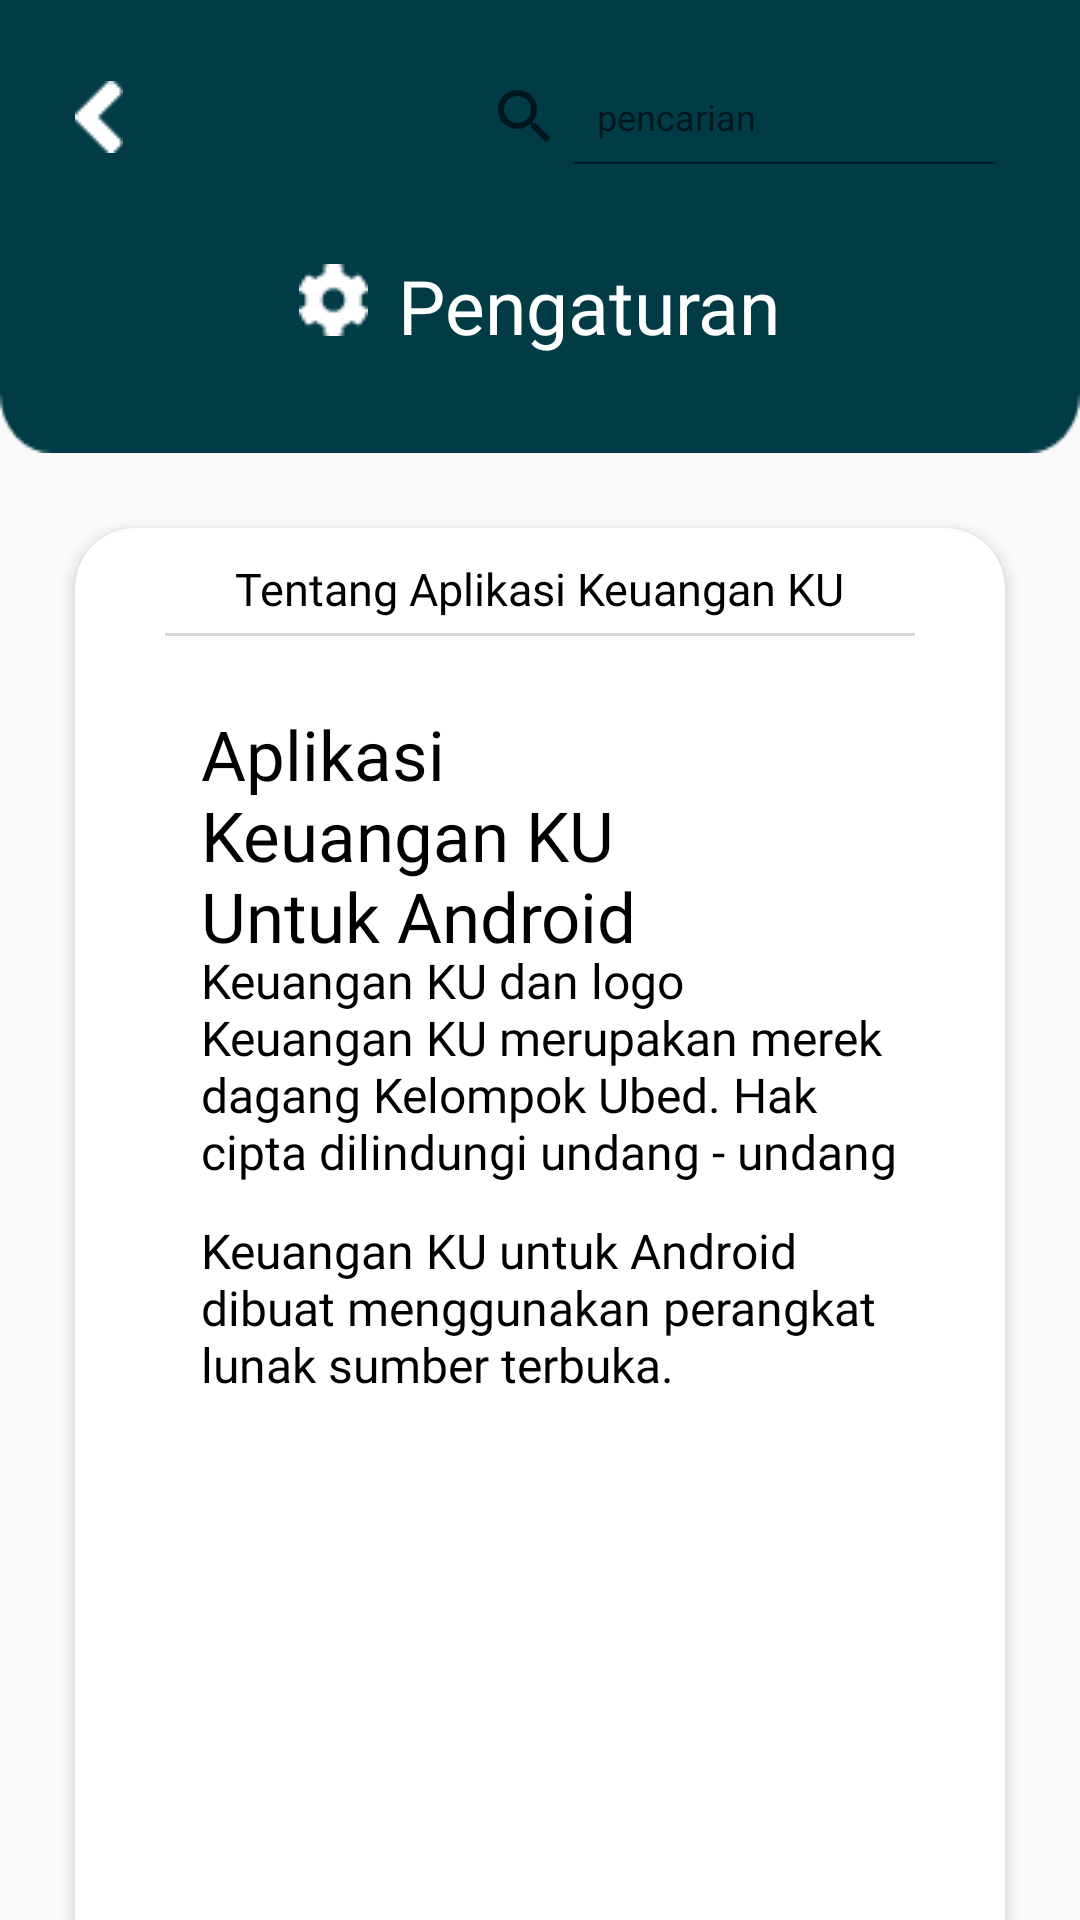

Named icons in this screenshot (1080×1920) and their bounding boxes, (x1, y1, x2, y2):
btnleft: (75, 81, 123, 153)
